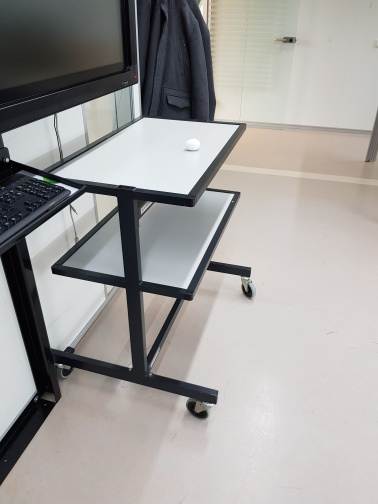egg: (182, 136, 202, 152)
